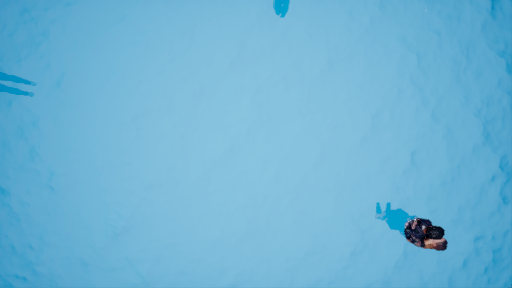person: (368, 197, 459, 253)
